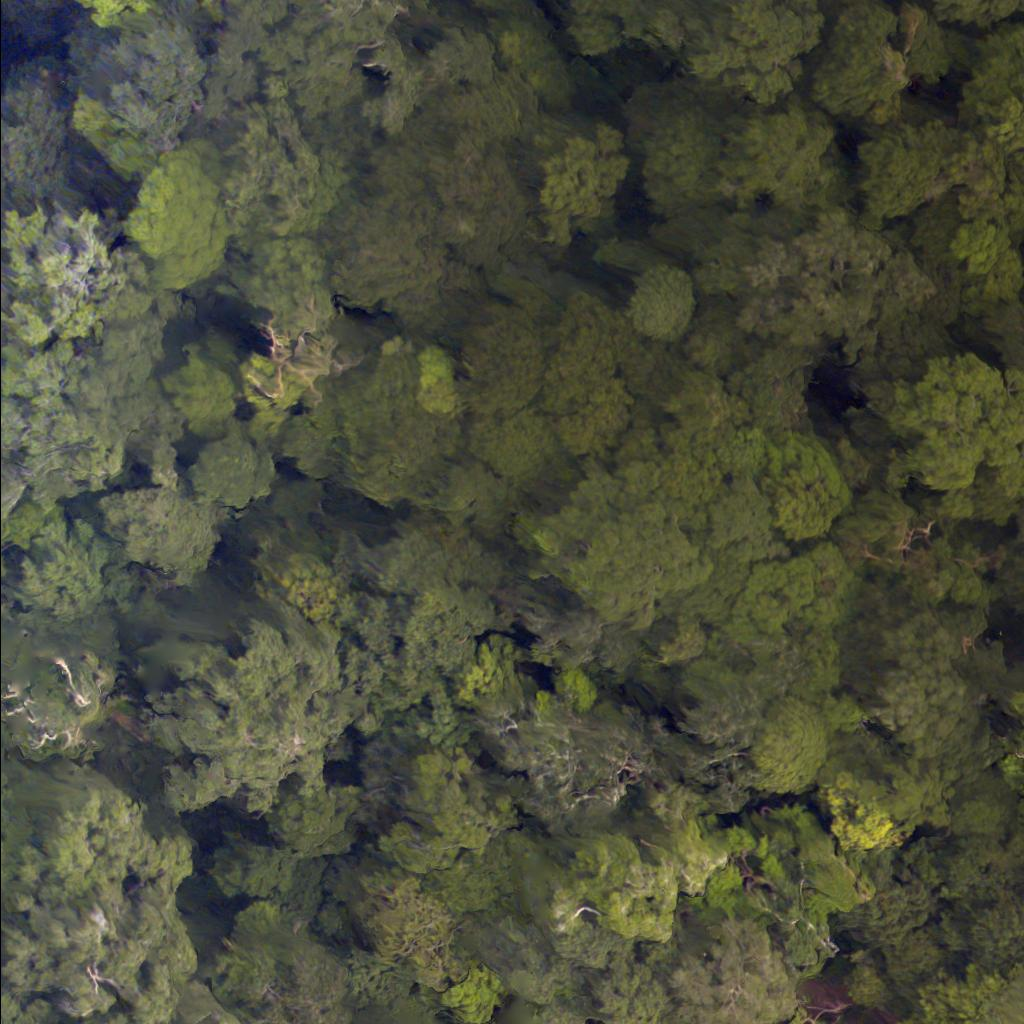crown: (668, 0, 832, 110), (953, 18, 1023, 166), (624, 256, 695, 354)
